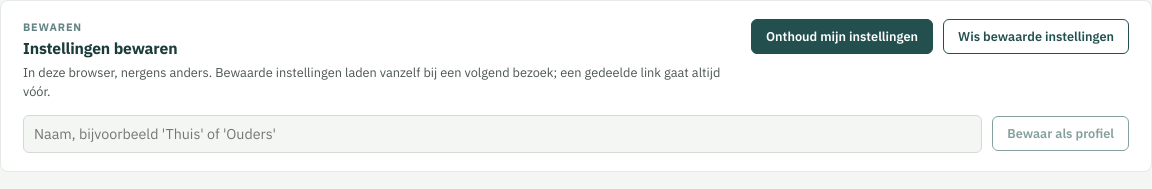
Test: bewaarde instellingen wissen › vraagt opnieuw om bevestiging als de focus weggaat
This screenshot has width=1152, height=189.
Click the button "Wis bewaarde instellingen": (1036, 37) [943,19,1129,54]
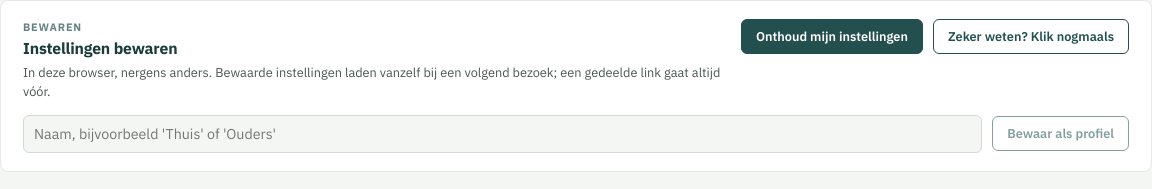
Leave the button "Zeker weten? Klik nogmaals", box [933,19,1129,54]
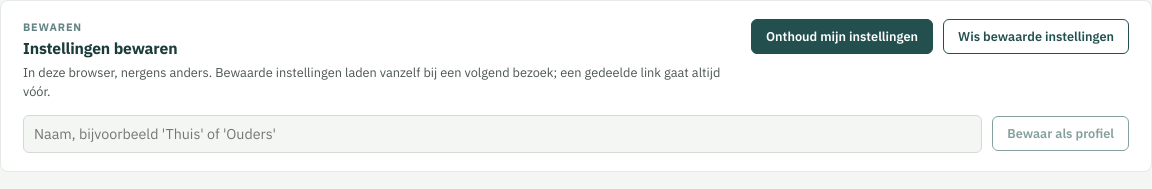
Check: the button "Wis bewaarde instellingen" is shown, box [943,19,1129,54]
